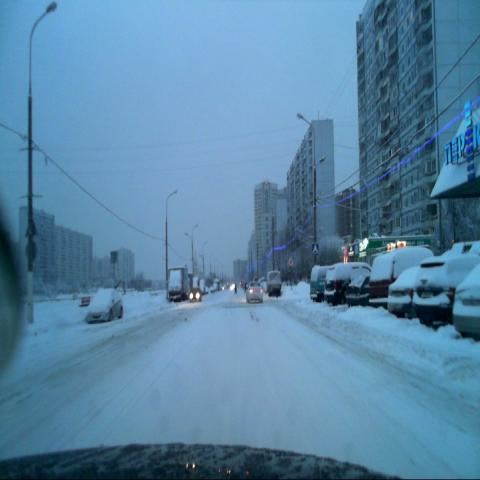5_20: (310, 243, 319, 259)
